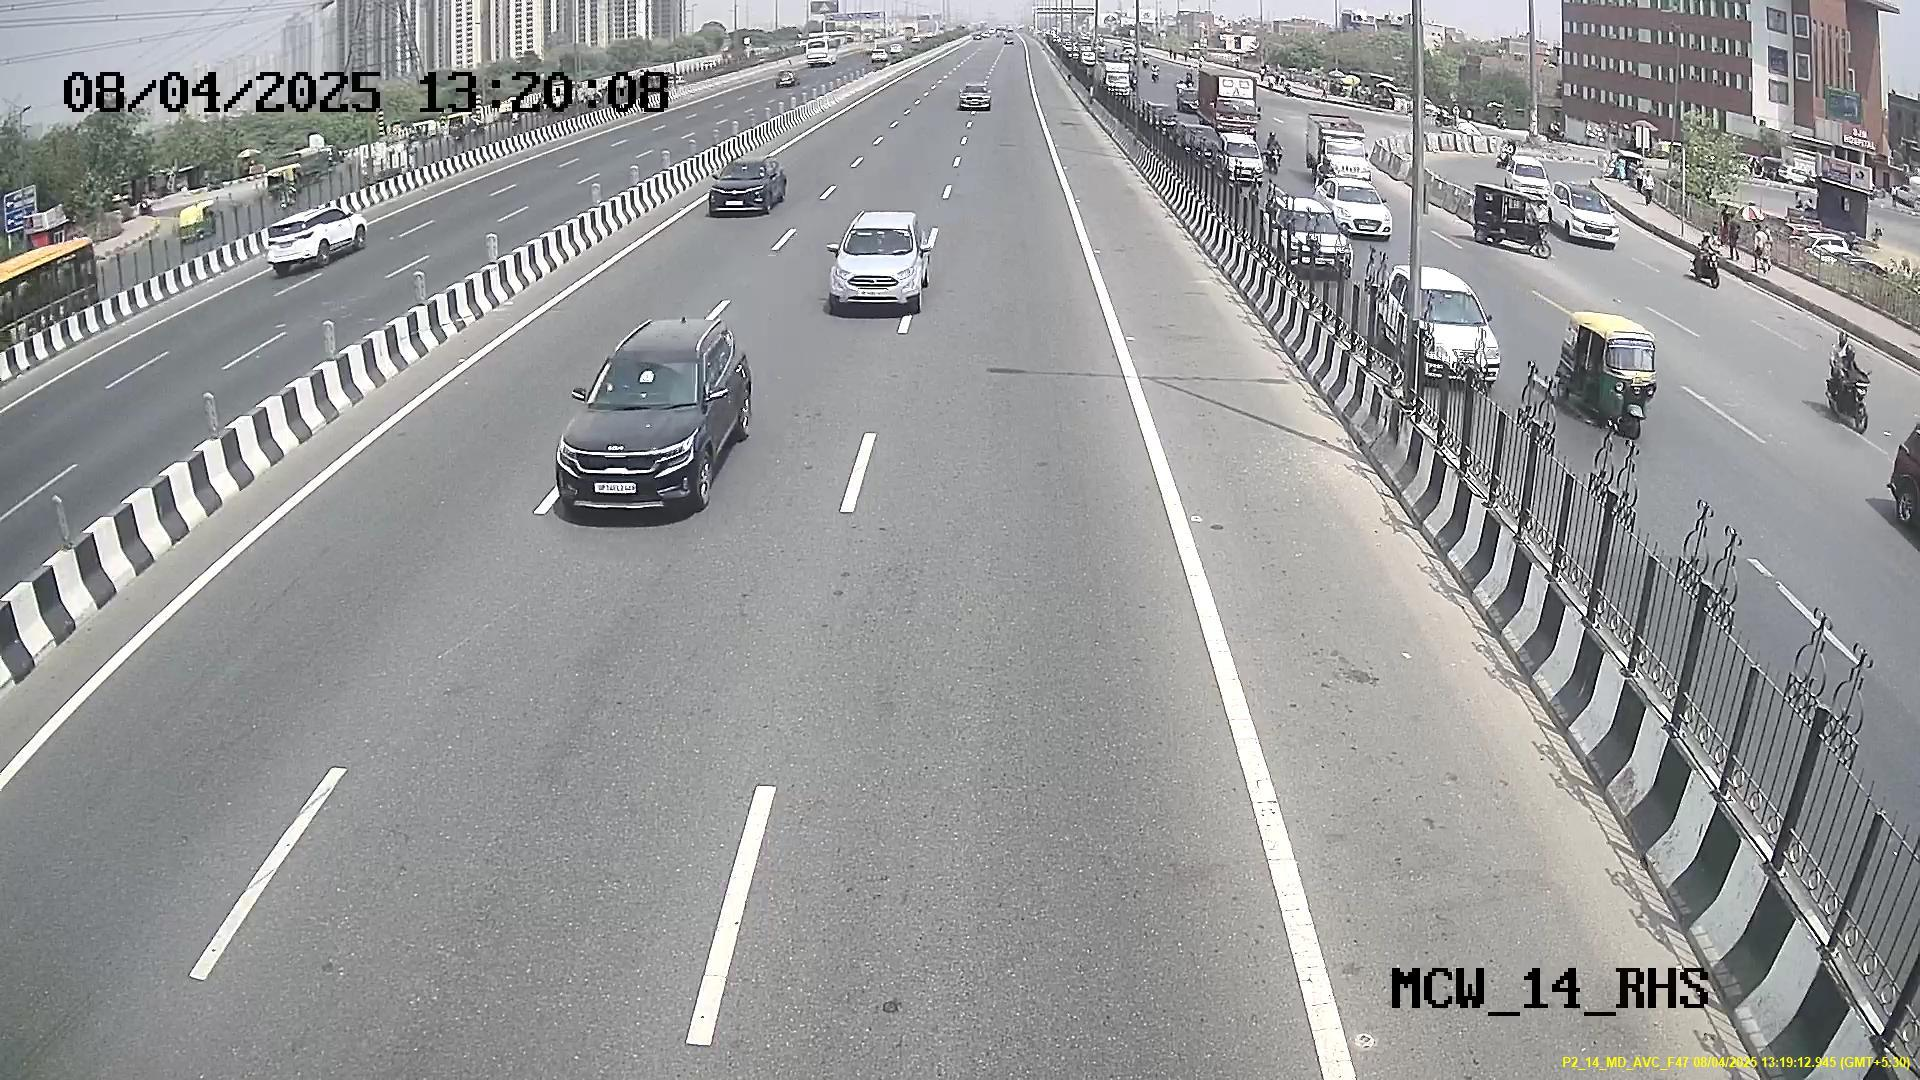car: (553, 338, 733, 517), (829, 219, 927, 314), (705, 156, 790, 219)
